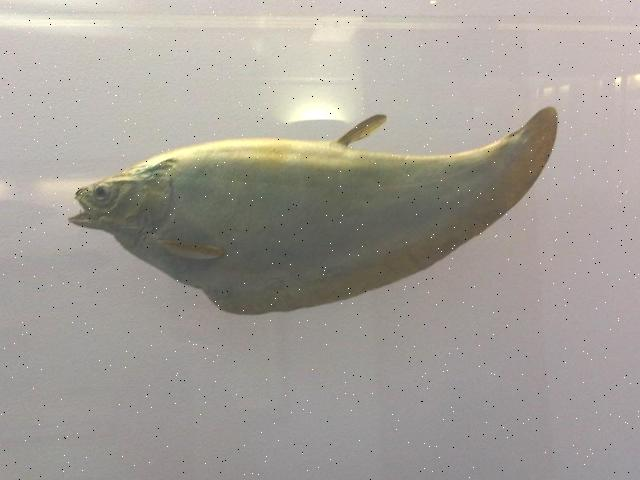Mulut: (63, 181, 109, 247)
Sirip Dada: (150, 230, 240, 270)
Sirip Punggung: (331, 110, 391, 152)
